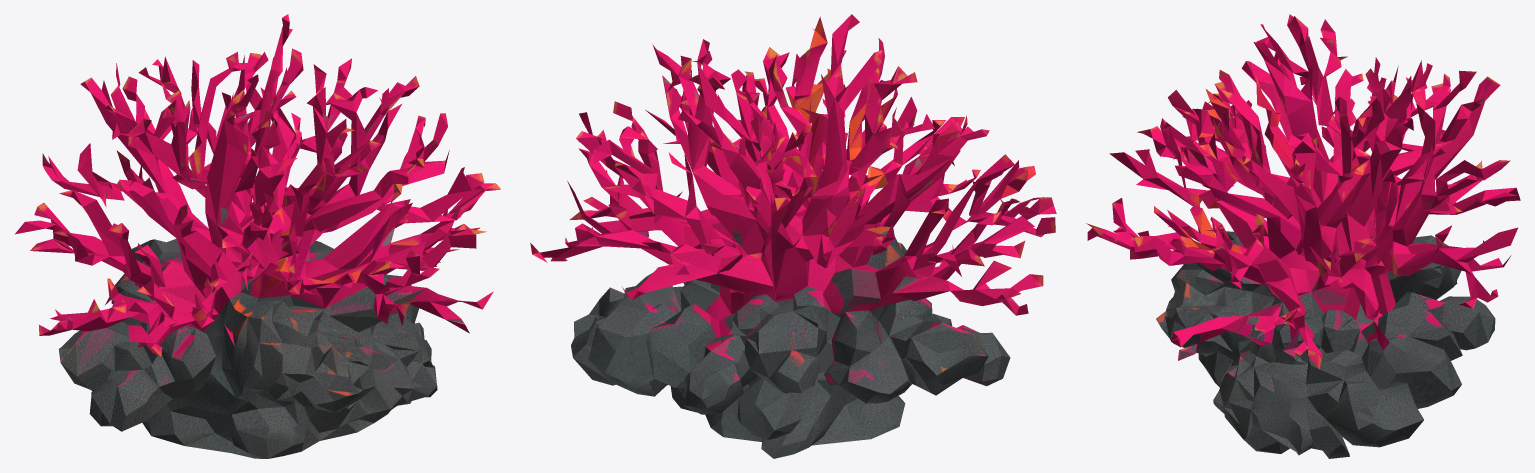
File: coral.glb
3 views of the same model, side by side, from view 1: azimuth 30°, elevation 25°; view 2: azimuth 150°, elevation 25°; view 3: azimuth 270°, elevation 25° (orthographic). The views are drawn at different scales.
Bounding box in the file's own units: 1.87 × 1.45 × 1.63.
Materials: 1 (1 with a texture image).
